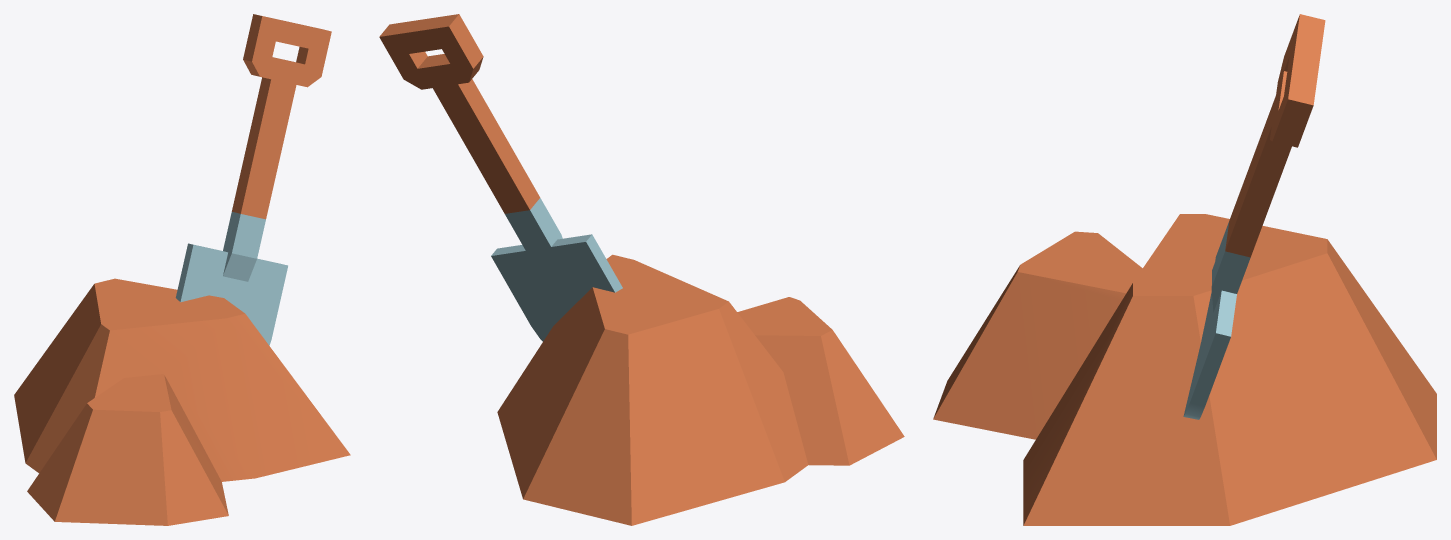
Rendered from shovelDirt.dae.
3 renders of one model, left to right at view 1: azimuth 30°, elevation 25°; view 2: azimuth 150°, elevation 25°; view 3: azimuth 270°, elevation 25°, orthographic. The views are drawn at different scales.
Visible parts, largest first — view 1: shovelDirt; view 2: shovelDirt; view 3: shovelDirt.
Part boxes in pixels (x1,y1,x2,y2): shovelDirt: (14, 14, 350, 525); shovelDirt: (379, 14, 904, 525); shovelDirt: (933, 14, 1436, 525).
Bounding box in the file's own units: 0.5994 × 0.5738 × 0.5057.
